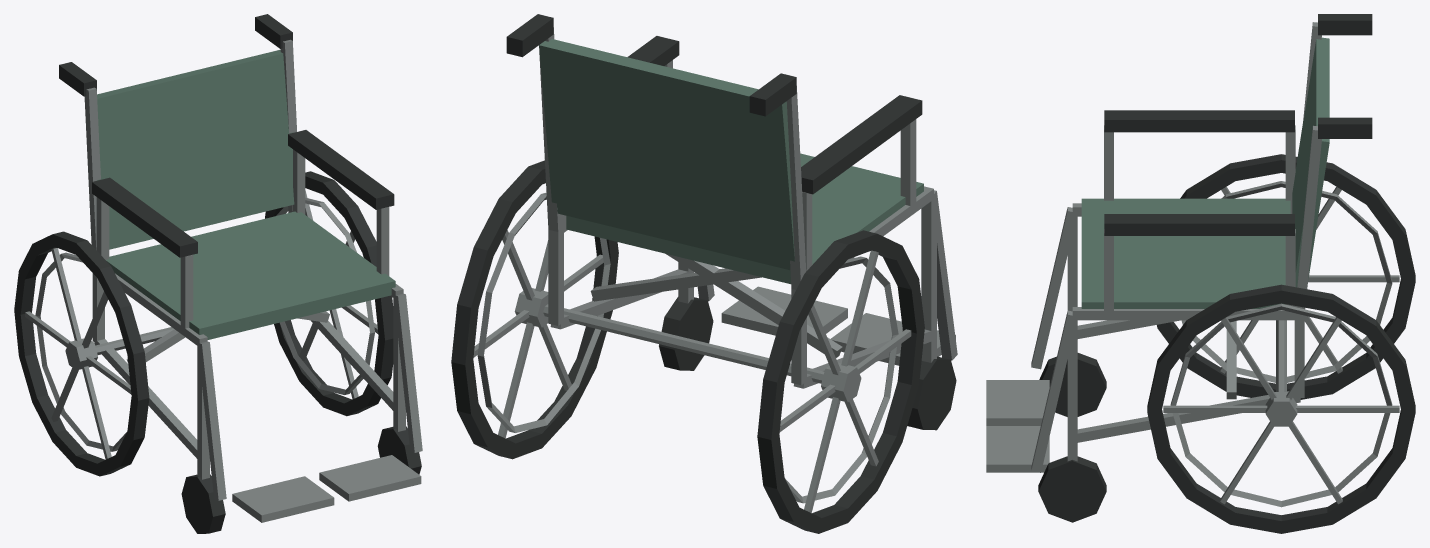
Rendered from wheelchair.glb.
3 views of the same model, side by side, from view 1: azimuth 30°, elevation 25°; view 2: azimuth 150°, elevation 25°; view 3: azimuth 270°, elevation 25° (orthographic). The views are drawn at different scales.
Visible parts, largest first — view 1: prop; view 2: prop; view 3: prop.
Boxes of the visible parts, bbox=[...] form: prop: bbox=[14, 14, 422, 533]; prop: bbox=[451, 14, 957, 533]; prop: bbox=[986, 14, 1415, 533].
Bounding box in the file's own units: 0.7167 × 0.95 × 0.9284.
